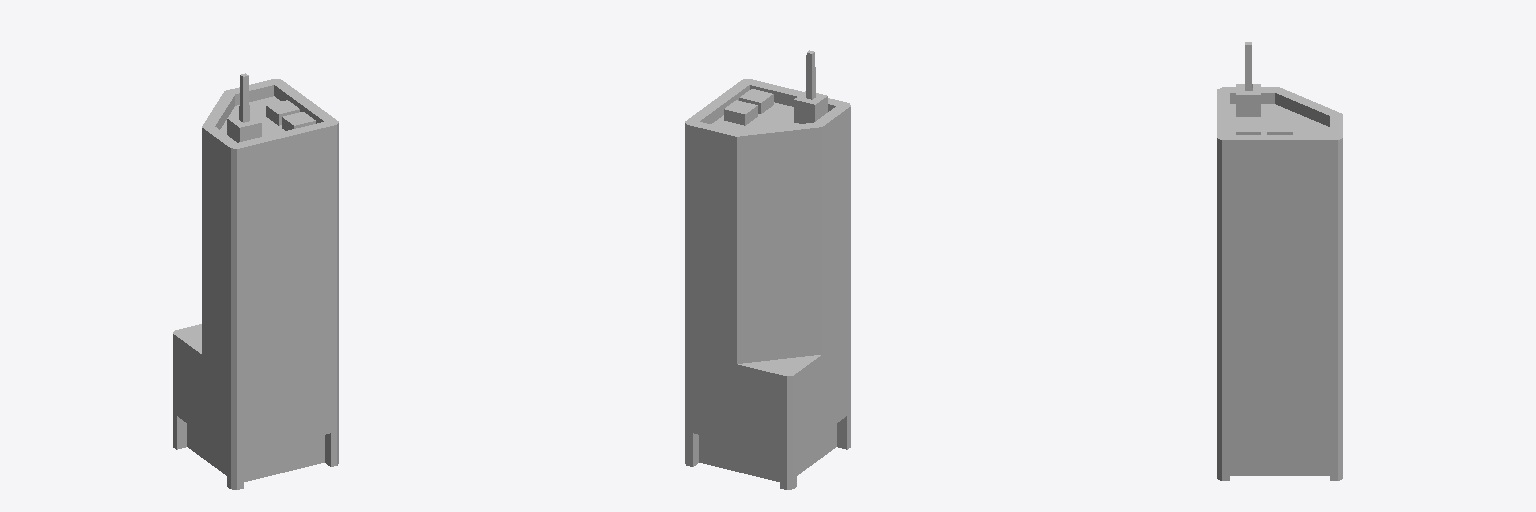
The model's file is low-detail-building-j.obj.
The picture shows the model from 3 angles: view 1: azimuth 30°, elevation 25°; view 2: azimuth 150°, elevation 25°; view 3: azimuth 270°, elevation 25°; orthographic projection.
Parts seen in each view (by area): view 1: low-detail-building-j; view 2: low-detail-building-j; view 3: low-detail-building-j.
Boxes of the visible parts, x1,y1,x2,y2 form: low-detail-building-j: [173, 73, 338, 489]; low-detail-building-j: [685, 50, 850, 489]; low-detail-building-j: [1217, 42, 1342, 480].
Size of the model in its own units: 0.5 by 1.75 by 0.5.